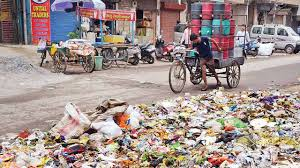garbage: (68, 108, 300, 167), (3, 142, 68, 168), (187, 96, 293, 108)
